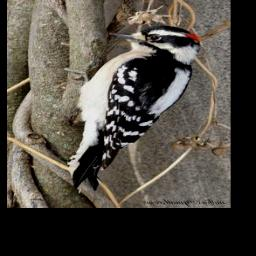Woodpecker: (66, 24, 201, 191)
